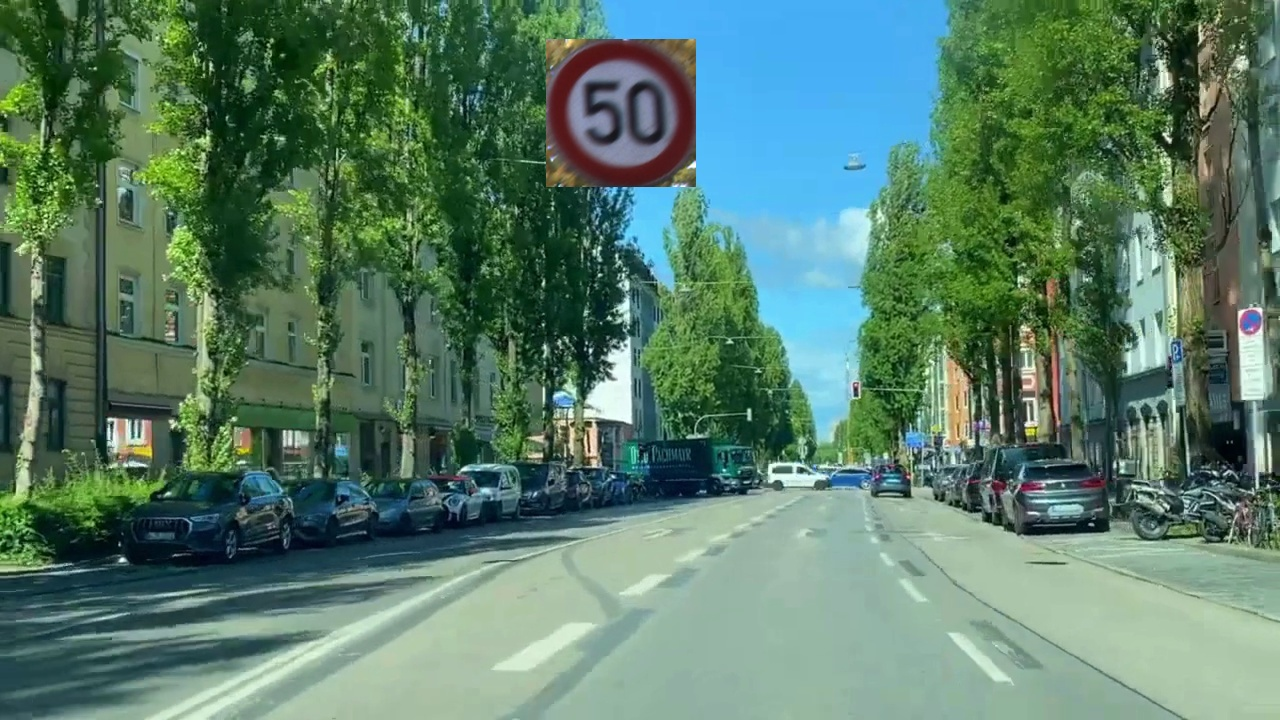Speed 50: (546, 39, 696, 187)
